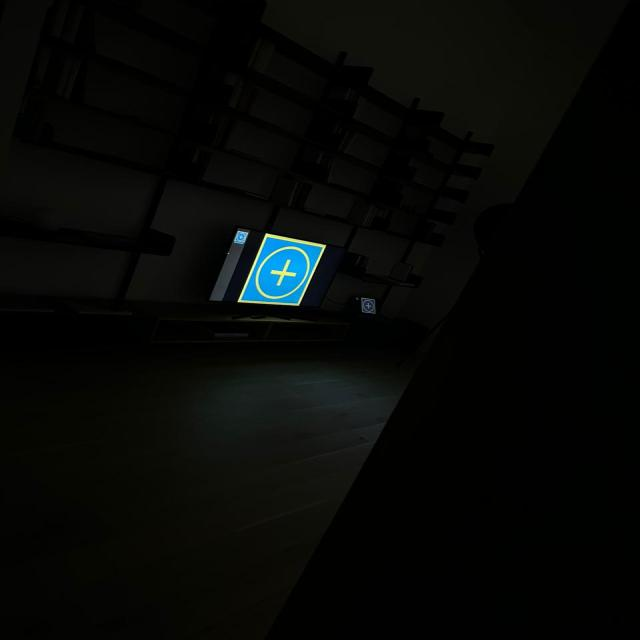Marker: (238, 233, 326, 306), (362, 298, 376, 314), (234, 230, 248, 243)
